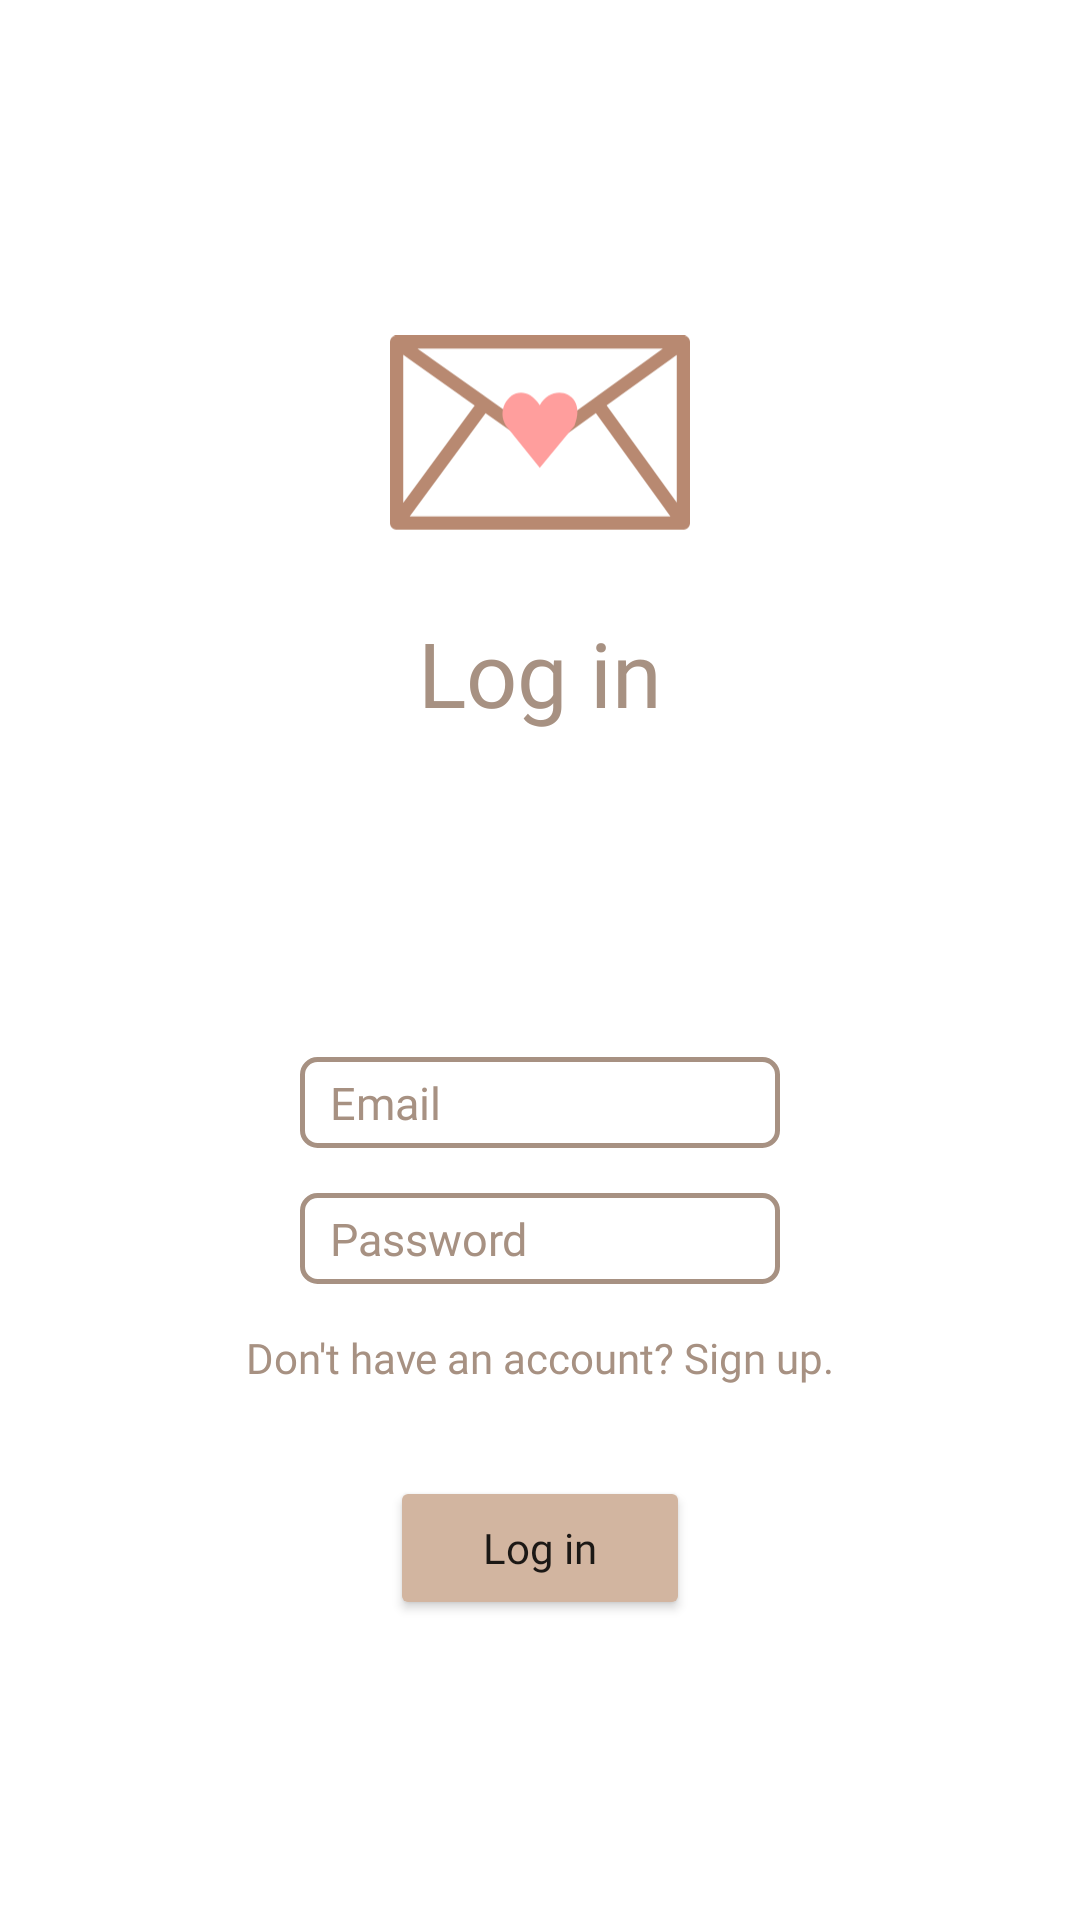

Where to tap for icons on this 1080w x 1920h app screen, as point (x, y):
love cornell letter: point (540, 432)
